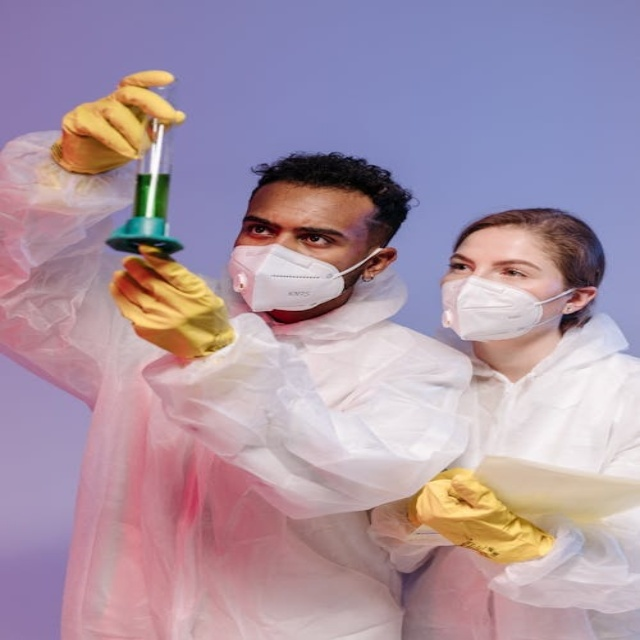Guantes: (406, 469, 554, 564), (54, 70, 186, 175), (110, 249, 235, 359)
Mascara: (229, 242, 378, 312), (440, 275, 576, 341)
Sin_gafas: (232, 206, 369, 249), (445, 251, 557, 284)
